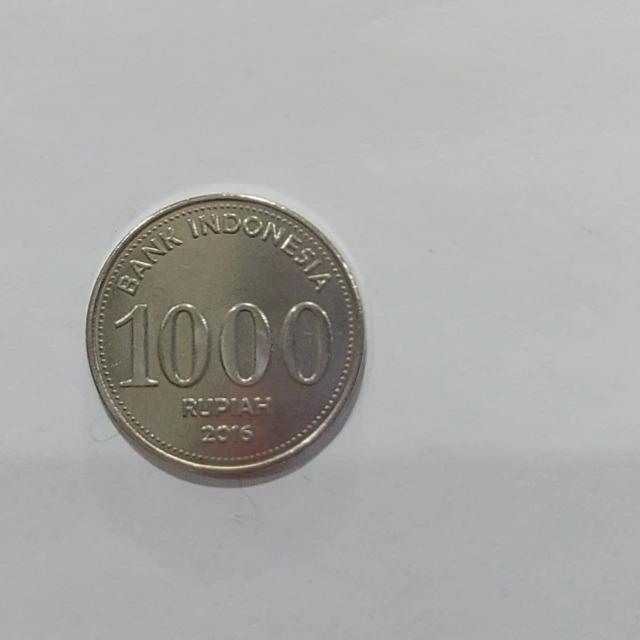Rp100: (83, 191, 367, 487)
